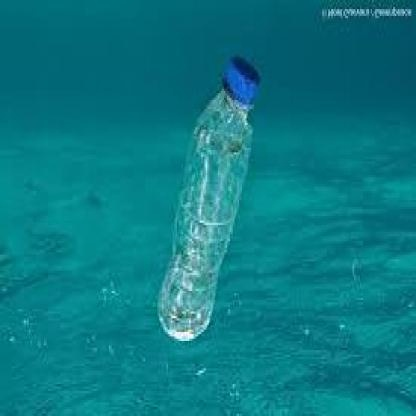pbottle: (153, 50, 265, 355)
